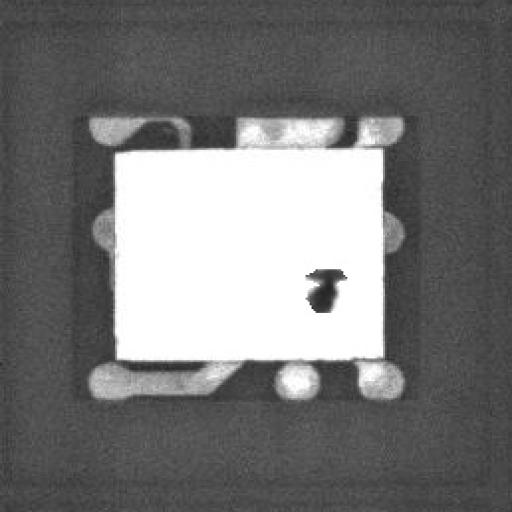DIE_INK: (290, 280, 328, 323)
